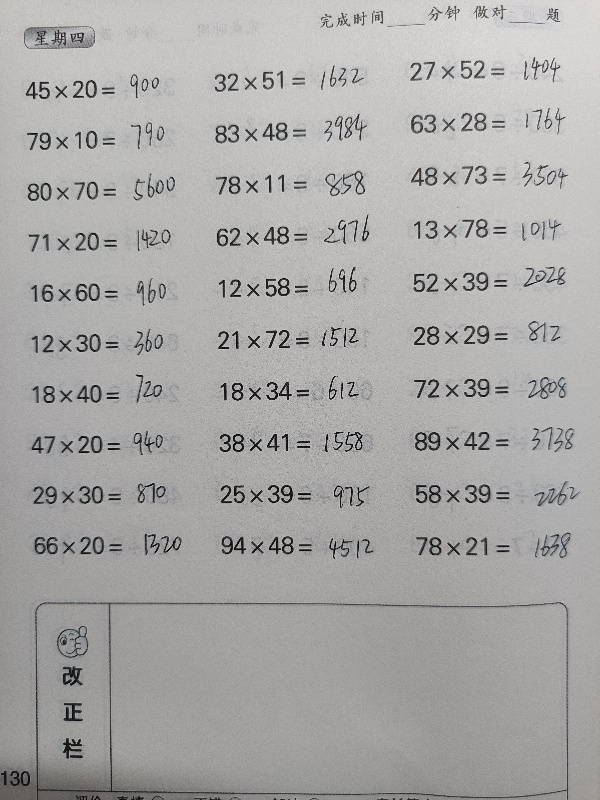equation: (407, 476, 587, 511), (406, 424, 586, 459), (209, 320, 389, 355), (404, 264, 584, 299), (20, 224, 200, 259), (207, 218, 387, 253), (405, 211, 585, 246), (401, 105, 581, 140), (401, 52, 581, 87), (408, 529, 588, 563), (213, 528, 393, 562), (25, 478, 205, 512), (212, 477, 392, 511), (22, 427, 202, 461), (211, 426, 391, 460), (24, 377, 204, 411), (211, 374, 391, 408), (405, 371, 585, 405), (23, 326, 203, 360), (404, 318, 584, 352), (23, 276, 203, 310), (210, 270, 390, 304), (18, 174, 198, 208), (206, 167, 386, 201), (401, 158, 581, 192), (18, 123, 198, 157), (206, 115, 386, 149), (16, 72, 196, 106), (205, 64, 385, 98), (25, 529, 205, 562)
